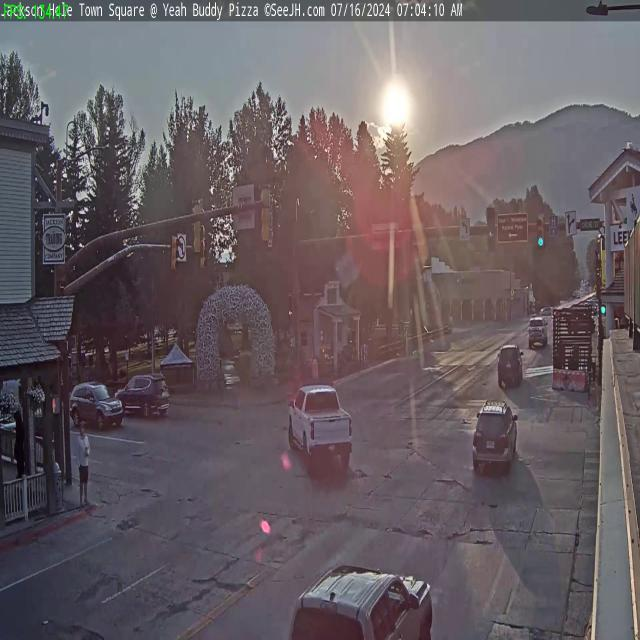person: (78, 420, 90, 506)
pickup: (286, 376, 354, 474)
suv: (282, 558, 435, 640), (472, 400, 518, 478), (69, 379, 124, 436), (117, 372, 170, 421), (496, 343, 522, 388), (528, 314, 547, 346)
traffic light: (261, 184, 274, 246), (190, 199, 203, 256), (487, 207, 496, 250), (536, 215, 546, 248)
